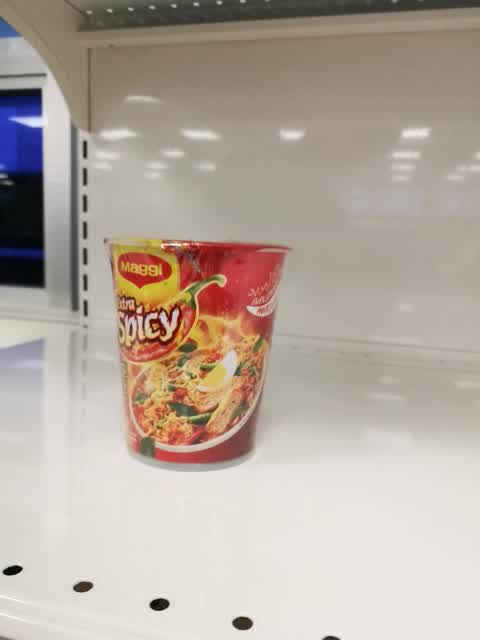maggi: (101, 236, 291, 475)
